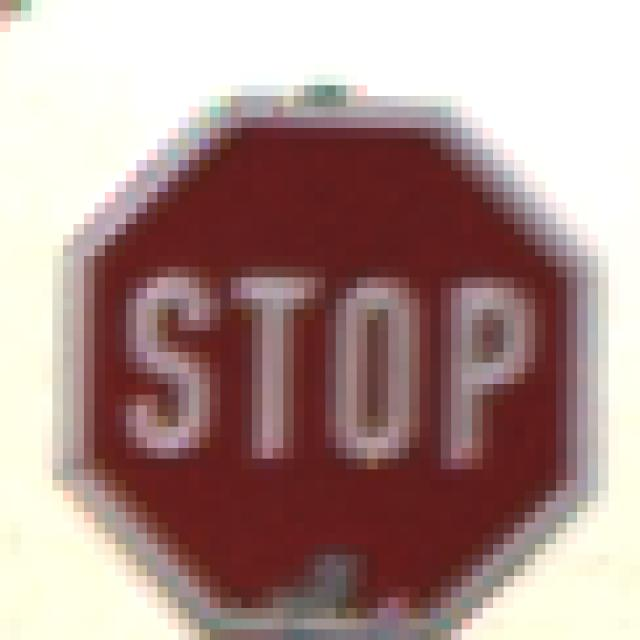STOP: (64, 54, 578, 588)
